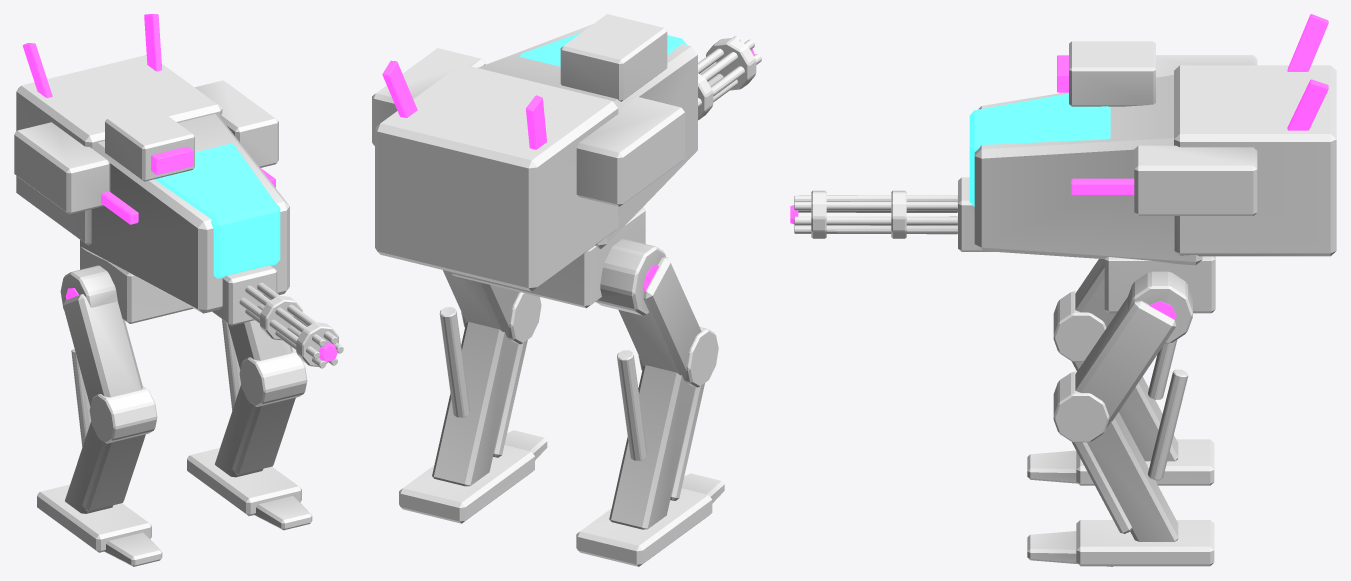
File: e2_road_strider.glb
The picture shows the model from 3 angles, left to right: view 1: azimuth 30°, elevation 25°; view 2: azimuth 150°, elevation 25°; view 3: azimuth 270°, elevation 25°; orthographic projection. The views are drawn at different scales.
Parts seen in each view (by area): view 1: PodNose, PodRear, PodGlass, SidePod_-1, Leg_L1_Thigh, TopSensor, Leg_L1_Foot, Leg_R1_Foot, SidePod_1, Leg_L1_Knee, Leg_R1_Knee, Leg_L1_ShinPlate (+20 smaller); view 2: PodRear, SidePod_-1, Leg_R1_Shin, Leg_L1_Shin, TopSensor, PodNose, Leg_L1_Thigh, Leg_L1_Foot, Leg_R1_Foot, Pelvis, Leg_L1_Hip, Leg_R1_Thigh (+14 smaller); view 3: PodRear, PodNose, SidePod_1, Leg_R1_Thigh, PodGlass, TopSensor, Leg_R1_Shin, Leg_R1_Foot, Pelvis, Leg_R1_Knee, Leg_L1_Foot, Leg_L1_Knee (+19 smaller).
Boxes of the visible parts, left/top/right/bottom form: PodNose: left=80, top=114, right=289, bottom=313; PodRear: left=16, top=55, right=222, bottom=245; PodGlass: left=154, top=143, right=280, bottom=278; SidePod_-1: left=14, top=122, right=110, bottom=214; Leg_L1_Thigh: left=63, top=294, right=142, bottom=405; TopSensor: left=105, top=107, right=194, bottom=181; Leg_L1_Foot: left=37, top=484, right=151, bottom=552; Leg_R1_Foot: left=187, top=448, right=301, bottom=515; SidePod_1: left=195, top=80, right=278, bottom=167; Leg_L1_Knee: left=89, top=386, right=157, bottom=443; Leg_R1_Knee: left=239, top=349, right=307, bottom=406; Leg_L1_ShinPlate: left=82, top=434, right=145, bottom=511; PodRear: left=375, top=64, right=618, bottom=291; SidePod_-1: left=576, top=96, right=684, bottom=206; Leg_R1_Shin: left=432, top=322, right=517, bottom=486; Leg_L1_Shin: left=609, top=365, right=694, bottom=529; TopSensor: left=560, top=14, right=667, bottom=101; PodNose: left=478, top=24, right=697, bottom=248; Leg_L1_Thigh: left=618, top=257, right=701, bottom=380; Leg_L1_Foot: left=576, top=488, right=712, bottom=566; Leg_R1_Foot: left=399, top=445, right=534, bottom=523; Pelvis: left=450, top=207, right=645, bottom=308; Leg_L1_Hip: left=595, top=239, right=665, bottom=315; Leg_R1_Thigh: left=443, top=270, right=519, bottom=337; PodRear: left=1174, top=65, right=1336, bottom=256; PodNose: left=974, top=75, right=1202, bottom=265; SidePod_1: left=1134, top=145, right=1257, bottom=215; Leg_R1_Thigh: left=1075, top=297, right=1176, bottom=428; PodGlass: left=969, top=93, right=1110, bottom=206; TopSensor: left=1069, top=41, right=1155, bottom=106; Leg_R1_Shin: left=1087, top=412, right=1178, bottom=541; Leg_R1_Foot: left=1076, top=520, right=1214, bottom=566; Pelvis: left=1104, top=256, right=1215, bottom=313; Leg_R1_Knee: left=1053, top=371, right=1109, bottom=442; Leg_L1_Foot: left=1076, top=439, right=1214, bottom=485; Leg_L1_Knee: left=1053, top=291, right=1106, bottom=361.
Size of the model in its own units: 1.38 by 2.65 by 2.8.
